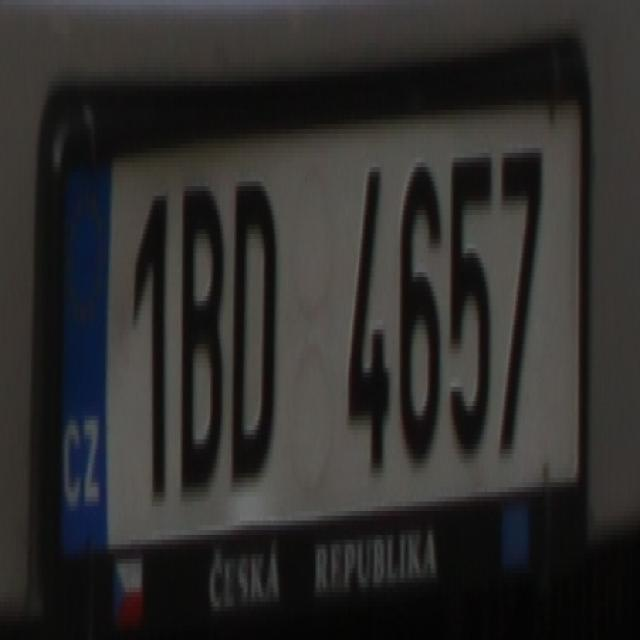1: (132, 196, 170, 497)
4: (348, 162, 394, 473)
5: (444, 144, 497, 464)
6: (396, 162, 444, 458)
7: (498, 133, 546, 444)
B: (180, 191, 224, 487)
D: (228, 168, 276, 482)
